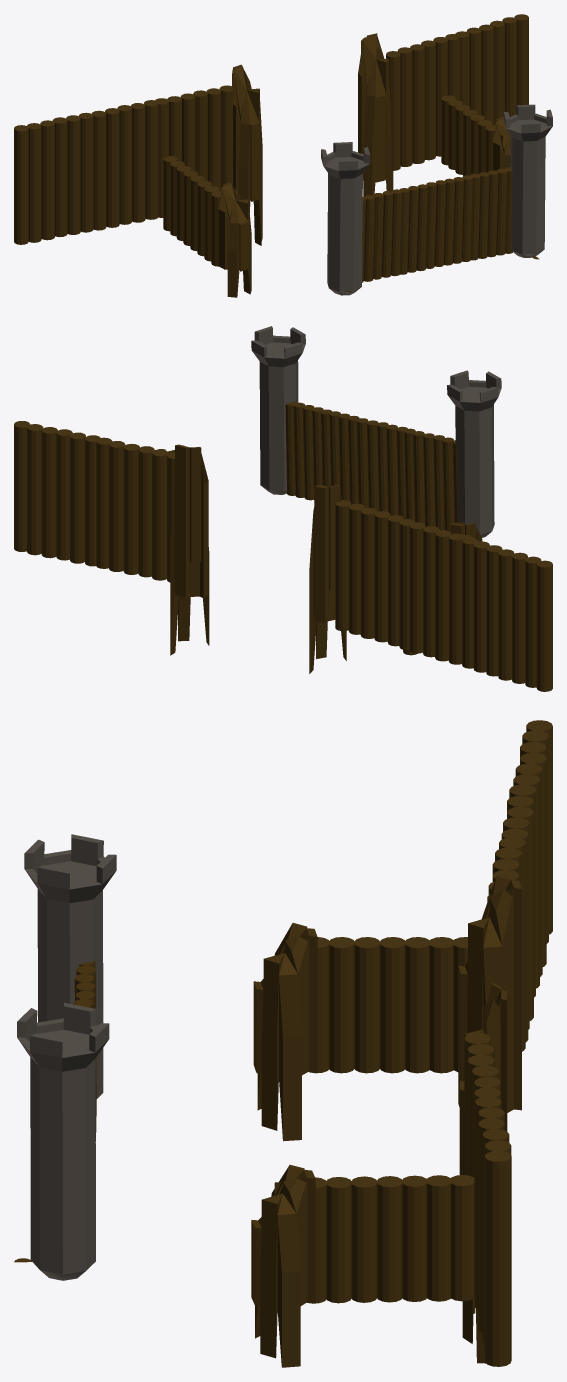
File: WoodenWall.fbx
3 views of the same model, one above another, from view 1: azimuth 30°, elevation 25°; view 2: azimuth 150°, elevation 25°; view 3: azimuth 270°, elevation 25° (orthographic). The views are drawn at different scales.
Visible parts, largest first — view 1: MAPLD1_woodenwall1start2; view 2: MAPLD1_woodenwall1start2; view 3: MAPLD1_woodenwall1start2.
Boxes of the visible parts, x1=… form: MAPLD1_woodenwall1start2: x1=14, y1=14, x2=552, y2=297; MAPLD1_woodenwall1start2: x1=14, y1=326, x2=552, y2=691; MAPLD1_woodenwall1start2: x1=14, y1=720, x2=552, y2=1367.
Size of the model in its own units: 14757 by 5742 by 7609.
